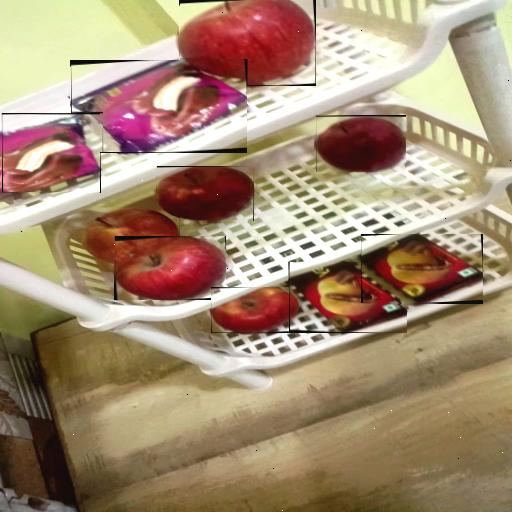Apple: (180, 0, 315, 85), (115, 236, 226, 300), (84, 209, 180, 264), (157, 167, 253, 221), (316, 117, 405, 172), (211, 287, 297, 333)
Choco Fills: (361, 234, 483, 303), (289, 262, 407, 332)
Choco Pie: (71, 60, 247, 152), (2, 114, 100, 192)
